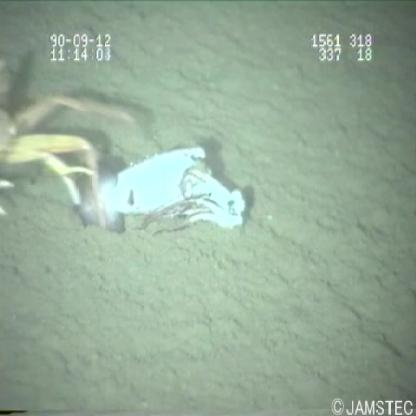Bio: (1, 87, 139, 232), (70, 140, 259, 241)
